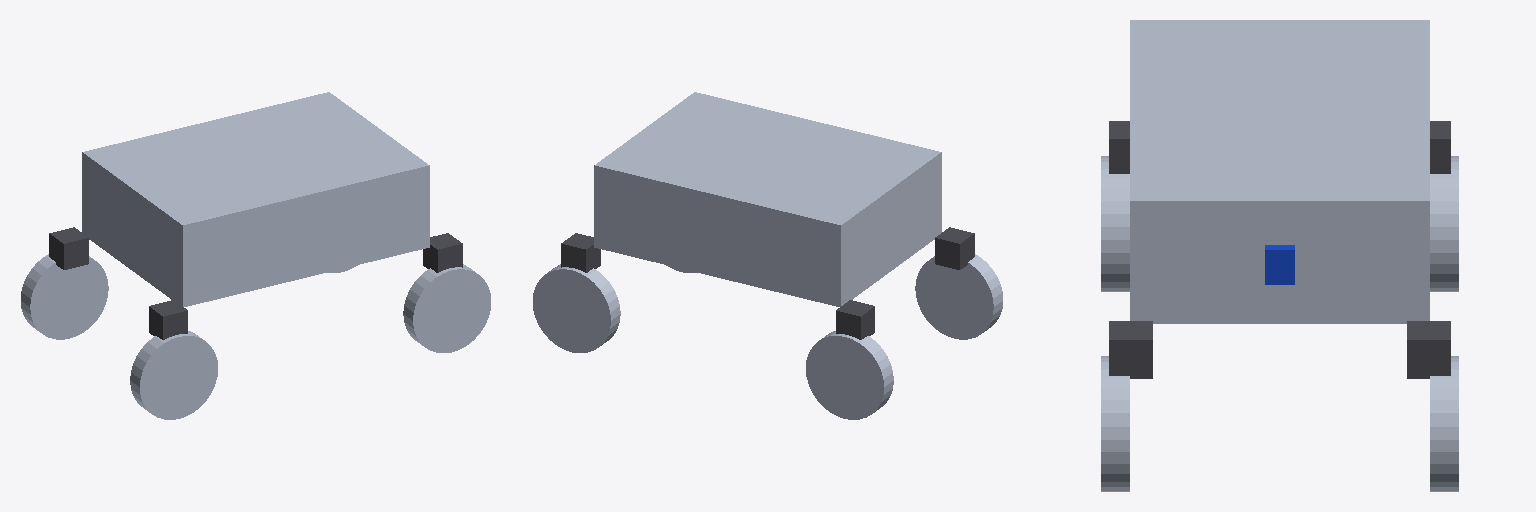
robot.urdf — maxwell_rviz:
<?xml version="1.0" encoding="utf-8"?>
<robot name="maxwell_rviz">
  <material name="gray">
    <color rgba="0.75 0.78 0.84 1.0" />
  </material>
  <material name="dark_gray">
    <color rgba="0.35 0.35 0.38 1.0" />
  </material>
  <material name="blue">
    <color rgba="0.15 0.35 0.85 1.0" />
  </material>
  <material name="orange">
    <color rgba="0.85 0.45 0.15 1.0" />
  </material>

  <link name="base_footprint" />

  <joint name="base_footprint_joint" type="fixed">
    <parent link="base_footprint" />
    <child link="Base_link" />
    <origin xyz="0 0 0.1766" rpy="0 0 0" />
  </joint>

  <link name="Base_link">
    <visual>
      <origin xyz="0 0 0" rpy="0 0 0" />
      <geometry>
        <box size="0.88 0.62 0.28" />
      </geometry>
      <material name="gray" />
    </visual>
  </link>

  <link name="Camera_link">
    <visual>
      <origin xyz="0 0 0" rpy="0 0 0" />
      <geometry>
        <box size="0.10 0.06 0.08" />
      </geometry>
      <material name="blue" />
    </visual>
  </link>

  <joint name="Camera_joint" type="fixed">
    <origin xyz="0.41296 0 0" rpy="0 0 0" />
    <parent link="Base_link" />
    <child link="Camera_link" />
  </joint>

  <link name="camera_depth_frame" />
  <joint name="camera_depth_joint" type="fixed">
    <origin xyz="0 0 0" rpy="0 0 0" />
    <parent link="Camera_link" />
    <child link="camera_depth_frame" />
  </joint>

  <link name="camera_depth_optical_frame" />
  <joint name="camera_depth_optical_joint" type="fixed">
    <origin xyz="0 0 0" rpy="-1.5708 0 -1.5708" />
    <parent link="camera_depth_frame" />
    <child link="camera_depth_optical_frame" />
  </joint>

  <link name="camera_color_frame" />
  <joint name="camera_color_joint" type="fixed">
    <origin xyz="0 0 0" rpy="0 0 0" />
    <parent link="Camera_link" />
    <child link="camera_color_frame" />
  </joint>

  <link name="camera_color_optical_frame" />
  <joint name="camera_color_optical_joint" type="fixed">
    <origin xyz="0 0 0" rpy="-1.5708 0 -1.5708" />
    <parent link="camera_color_frame" />
    <child link="camera_color_optical_frame" />
  </joint>

  <link name="camera_imu_link">
    <visual>
      <origin xyz="0 0 0" rpy="0 0 0" />
      <geometry>
        <box size="0.03 0.03 0.03" />
      </geometry>
      <material name="orange" />
    </visual>
  </link>

  <joint name="camera_imu_joint" type="fixed">
    <origin xyz="0 0 0" rpy="0 0 0" />
    <parent link="Camera_link" />
    <child link="camera_imu_link" />
  </joint>

  <link name="FL_Rot_Link">
    <visual>
      <origin xyz="0 0 0" rpy="0 0 0" />
      <geometry>
        <box size="0.09 0.09 0.09" />
      </geometry>
      <material name="dark_gray" />
    </visual>
  </link>
  <joint name="FL_Rot_Joint" type="fixed">
    <origin xyz="0.4891 0.30651 -0.1766" rpy="0 0 0" />
    <parent link="Base_link" />
    <child link="FL_Rot_Link" />
  </joint>

  <link name="FL_Link">
    <visual>
      <origin xyz="0 0 0" rpy="1.5708 0 0" />
      <geometry>
        <cylinder radius="0.14" length="0.06" />
      </geometry>
      <material name="gray" />
    </visual>
  </link>
  <joint name="FL_Joint" type="fixed">
    <origin xyz="-0.0021234 0.03175 -0.16793" rpy="0 0 0" />
    <parent link="FL_Rot_Link" />
    <child link="FL_Link" />
  </joint>

  <link name="FR_Rot_Link">
    <visual>
      <origin xyz="0 0 0" rpy="0 0 0" />
      <geometry>
        <box size="0.09 0.09 0.09" />
      </geometry>
      <material name="dark_gray" />
    </visual>
  </link>
  <joint name="FR_Rot_Joint" type="fixed">
    <origin xyz="0.4891 -0.30651 -0.1766" rpy="0 0 0" />
    <parent link="Base_link" />
    <child link="FR_Rot_Link" />
  </joint>

  <link name="FR_Link">
    <visual>
      <origin xyz="0 0 0" rpy="1.5708 0 0" />
      <geometry>
        <cylinder radius="0.14" length="0.06" />
      </geometry>
      <material name="gray" />
    </visual>
  </link>
  <joint name="FR_Joint" type="fixed">
    <origin xyz="-0.0021234 -0.03175 -0.16793" rpy="0 0 0" />
    <parent link="FR_Rot_Link" />
    <child link="FR_Link" />
  </joint>

  <link name="BL_Rot_Link">
    <visual>
      <origin xyz="0 0 0" rpy="0 0 0" />
      <geometry>
        <box size="0.09 0.09 0.09" />
      </geometry>
      <material name="dark_gray" />
    </visual>
  </link>
  <joint name="BL_Rot_Joint" type="fixed">
    <origin xyz="-0.4891 0.30651 -0.1766" rpy="0 0 0" />
    <parent link="Base_link" />
    <child link="BL_Rot_Link" />
  </joint>

  <link name="BL_Link">
    <visual>
      <origin xyz="0 0 0" rpy="1.5708 0 0" />
      <geometry>
        <cylinder radius="0.14" length="0.06" />
      </geometry>
      <material name="gray" />
    </visual>
  </link>
  <joint name="BL_Joint" type="fixed">
    <origin xyz="0.0021234 0.03175 -0.16793" rpy="0 0 0" />
    <parent link="BL_Rot_Link" />
    <child link="BL_Link" />
  </joint>

  <link name="BR_Rot_Link">
    <visual>
      <origin xyz="0 0 0" rpy="0 0 0" />
      <geometry>
        <box size="0.09 0.09 0.09" />
      </geometry>
      <material name="dark_gray" />
    </visual>
  </link>
  <joint name="BR_Rot_Joint" type="fixed">
    <origin xyz="-0.4891 -0.30651 -0.1766" rpy="0 0 0" />
    <parent link="Base_link" />
    <child link="BR_Rot_Link" />
  </joint>

  <link name="BR_Link">
    <visual>
      <origin xyz="0 0 0" rpy="1.5708 0 0" />
      <geometry>
        <cylinder radius="0.14" length="0.06" />
      </geometry>
      <material name="gray" />
    </visual>
  </link>
  <joint name="BR_Joint" type="fixed">
    <origin xyz="0.0021234 -0.03175 -0.16793" rpy="0 0 0" />
    <parent link="BR_Rot_Link" />
    <child link="BR_Link" />
  </joint>
</robot>

--- What the picture shows (computed from the rendered views, not written in the file) ---
The picture shows the robot from 3 angles, left to right: view 1: azimuth 30°, elevation 25°; view 2: azimuth 150°, elevation 25°; view 3: azimuth 270°, elevation 25°; orthographic projection.
Model maxwell_rviz with 16 links and 15 joints (15 fixed), rooted at base_footprint, posed all joints at 0.
Links seen in each view (by area): view 1: Base_link, BR_Link, FR_Link, BL_Link, BL_Rot_Link, BR_Rot_Link, FR_Rot_Link; view 2: Base_link, BL_Link, FL_Link, BR_Link, BR_Rot_Link, BL_Rot_Link, FL_Rot_Link; view 3: Base_link, BL_Link, BR_Link, FL_Link, FR_Link, FL_Rot_Link, FR_Rot_Link, Camera_link, BL_Rot_Link, BR_Rot_Link.
Boxes of the visible links, x1=… form: Base_link: x1=82, y1=92, x2=429, y2=306; BR_Link: x1=130, y1=331, x2=217, y2=419; FR_Link: x1=403, y1=264, x2=490, y2=352; BL_Link: x1=21, y1=254, x2=108, y2=339; BL_Rot_Link: x1=49, y1=227, x2=88, y2=269; BR_Rot_Link: x1=149, y1=300, x2=187, y2=339; FR_Rot_Link: x1=423, y1=233, x2=462, y2=272; Base_link: x1=594, y1=92, x2=941, y2=306; BL_Link: x1=806, y1=331, x2=893, y2=419; FL_Link: x1=533, y1=264, x2=620, y2=352; BR_Link: x1=915, y1=254, x2=1002, y2=339; BR_Rot_Link: x1=935, y1=227, x2=974, y2=269; BL_Rot_Link: x1=836, y1=300, x2=874, y2=339; FL_Rot_Link: x1=561, y1=233, x2=600, y2=272; Base_link: x1=1130, y1=20, x2=1429, y2=323; BL_Link: x1=1430, y1=156, x2=1458, y2=291; BR_Link: x1=1101, y1=156, x2=1129, y2=291; FL_Link: x1=1430, y1=356, x2=1458, y2=491; FR_Link: x1=1101, y1=356, x2=1129, y2=491; FL_Rot_Link: x1=1407, y1=321, x2=1450, y2=378; FR_Rot_Link: x1=1109, y1=321, x2=1152, y2=378; Camera_link: x1=1265, y1=245, x2=1294, y2=284; BL_Rot_Link: x1=1430, y1=121, x2=1450, y2=173; BR_Rot_Link: x1=1109, y1=121, x2=1129, y2=173.
Bounding box of the posed robot: 1.25 × 0.7365 × 0.6245 m (x, y, z).
Geometry: primitives only (box / cylinder / sphere), no mesh files.
